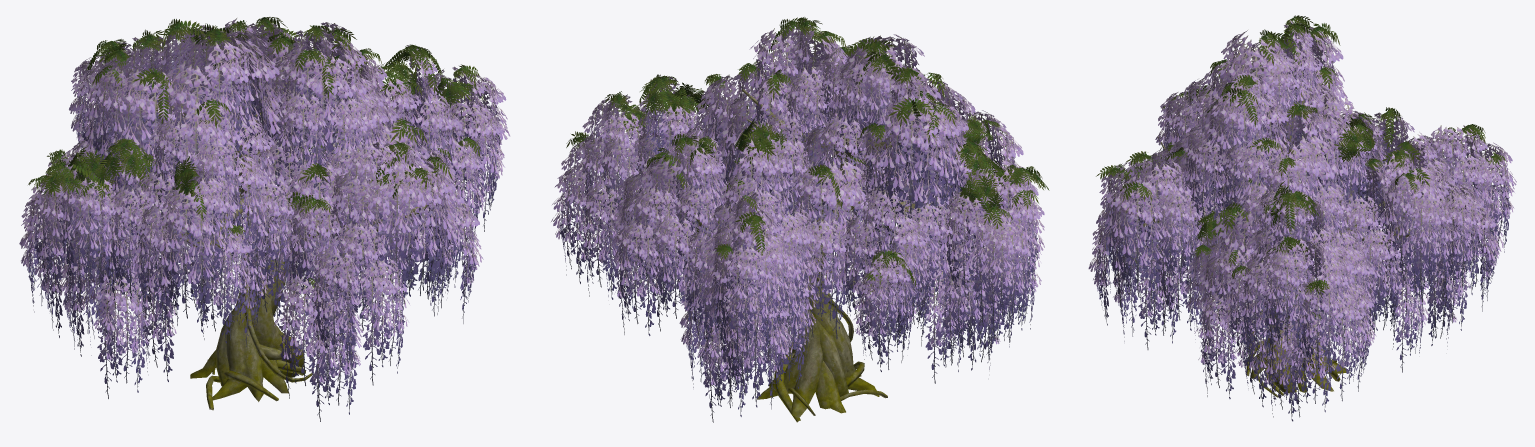
Rendered from Wisteria_Flower.fbx.
3 views of the same model, side by side, from view 1: azimuth 30°, elevation 25°; view 2: azimuth 150°, elevation 25°; view 3: azimuth 270°, elevation 25° (orthographic). The views are drawn at different scales.
Parts seen in each view (by area): view 1: SM_a_001_Wisteria_01a; view 2: SM_a_001_Wisteria_01a; view 3: SM_a_001_Wisteria_01a.
Part boxes in pixels (x1=…): SM_a_001_Wisteria_01a: x1=19, y1=17, x2=510, y2=421; SM_a_001_Wisteria_01a: x1=551, y1=17, x2=1049, y2=422; SM_a_001_Wisteria_01a: x1=1088, y1=15, x2=1516, y2=421.
Size of the model in its own units: 781 by 594 by 703.
